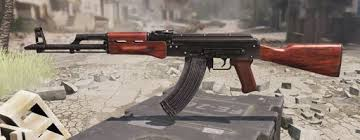long_gun: (20, 24, 346, 116)
